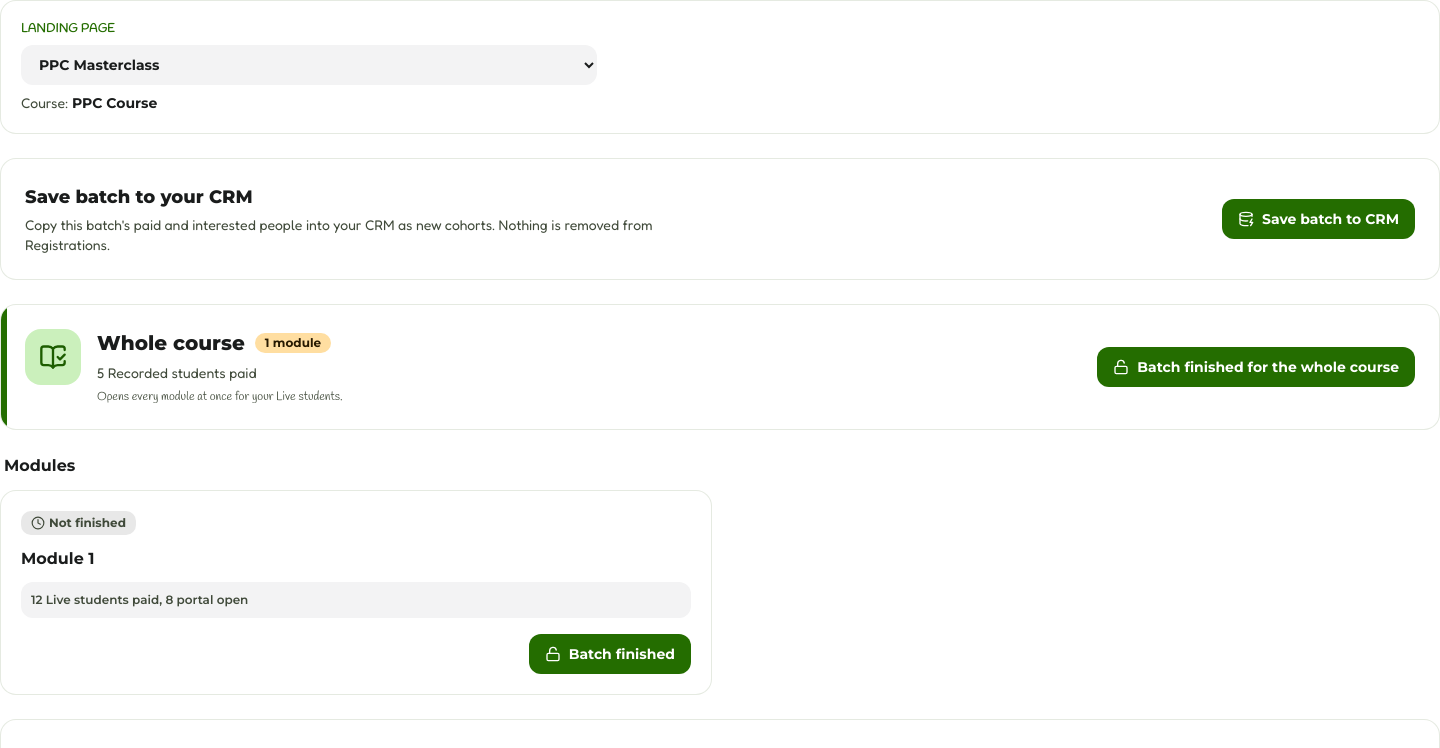
Scenario: Save batch to CRM › says 1 person in the singular
Check: the heading "Module 1" is shown, box [21,549,94,568]
What coordinates should you click on to do the following:
click the button "Save batch to CRM"
I would click on:
 (1318, 219)
Its box is [1222,199,1415,239].
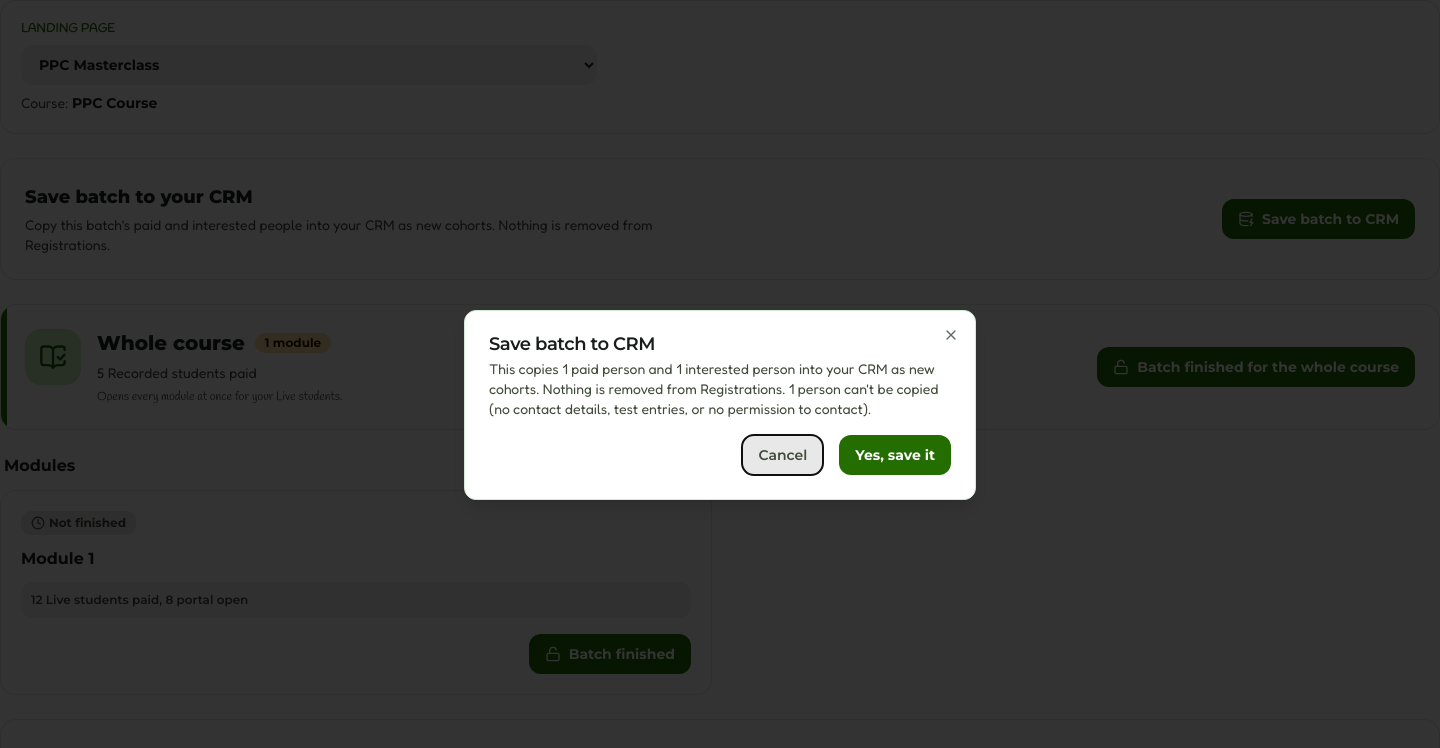
Check: the text "1 person can't be copied" is shown, box [489,360,938,417]
